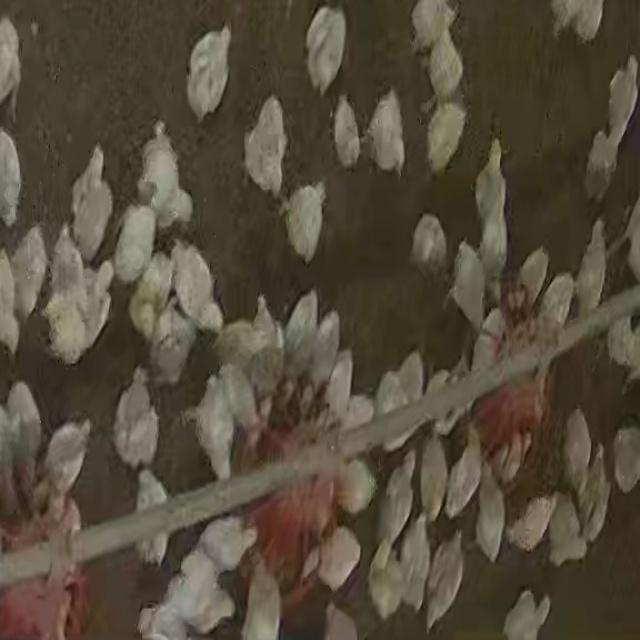chicken: (39, 230, 114, 368), (586, 54, 640, 202), (138, 120, 196, 233), (472, 138, 511, 293), (166, 549, 233, 632), (372, 351, 429, 448), (190, 373, 239, 479), (69, 144, 113, 261), (172, 239, 225, 335), (111, 372, 161, 473), (186, 23, 233, 120), (244, 96, 288, 197), (302, 4, 348, 96), (252, 293, 290, 404), (317, 447, 379, 514), (10, 225, 50, 327), (300, 528, 365, 589), (218, 362, 262, 452), (190, 516, 256, 576), (449, 240, 489, 338), (143, 298, 192, 378), (112, 200, 158, 284), (134, 244, 173, 343), (132, 467, 170, 566), (364, 89, 407, 174), (283, 181, 327, 264), (41, 421, 90, 494), (424, 532, 462, 626), (447, 428, 484, 523), (287, 289, 319, 397), (380, 449, 415, 546), (239, 560, 280, 640), (400, 516, 433, 615), (9, 378, 40, 483), (421, 414, 451, 518), (215, 325, 275, 377), (311, 308, 340, 415), (369, 538, 405, 620), (469, 307, 505, 389), (582, 442, 611, 542), (427, 103, 469, 172), (544, 496, 585, 566), (540, 274, 573, 360), (475, 476, 507, 560), (427, 29, 464, 100), (515, 247, 548, 326), (409, 213, 448, 277), (582, 217, 608, 312), (564, 408, 592, 494), (324, 348, 350, 439), (502, 592, 551, 640), (332, 95, 362, 169), (606, 313, 640, 376), (610, 422, 640, 493), (488, 434, 530, 483)
